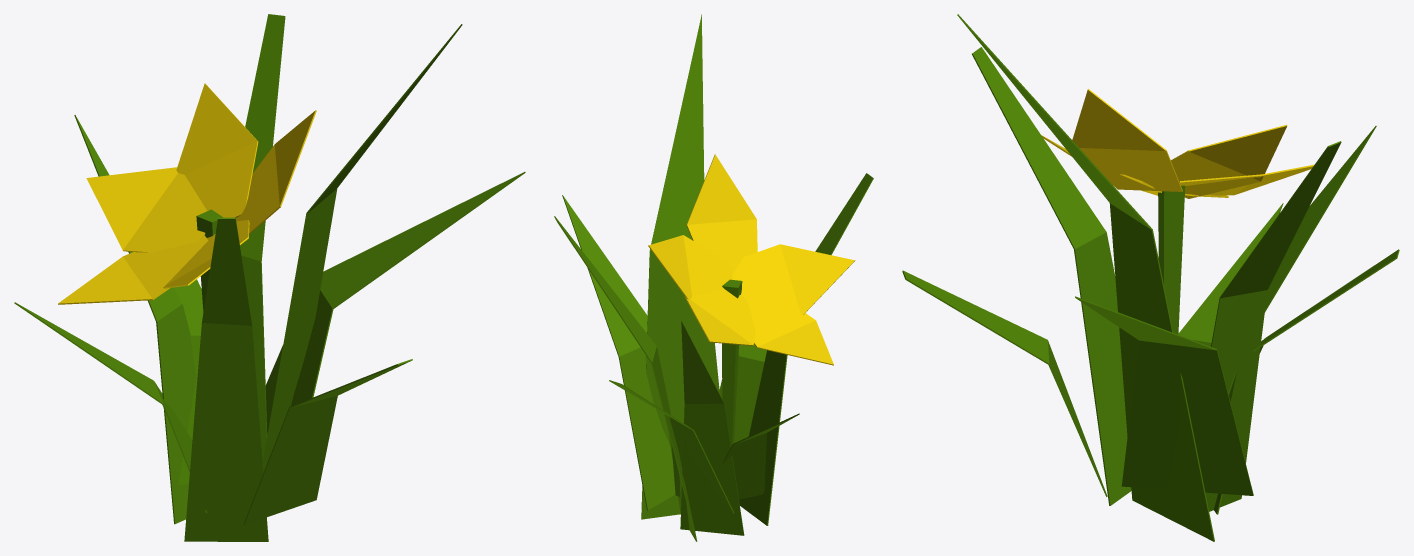
File: 022 Flower_Plant_Yellow.FBX
The picture shows the model from 3 angles, left to right: view 1: azimuth 30°, elevation 25°; view 2: azimuth 150°, elevation 25°; view 3: azimuth 270°, elevation 25°; orthographic projection. The views are drawn at different scales.
Visible parts, largest first — view 1: FlowerPlane_089; view 2: FlowerPlane_089; view 3: FlowerPlane_089.
Boxes of the visible parts, box(x1,y1,x2,y2) form: FlowerPlane_089: box(14, 14, 525, 541); FlowerPlane_089: box(554, 14, 873, 541); FlowerPlane_089: box(902, 14, 1399, 541).
Bounding box in the file's own units: 33.81 × 43.12 × 35.21.
